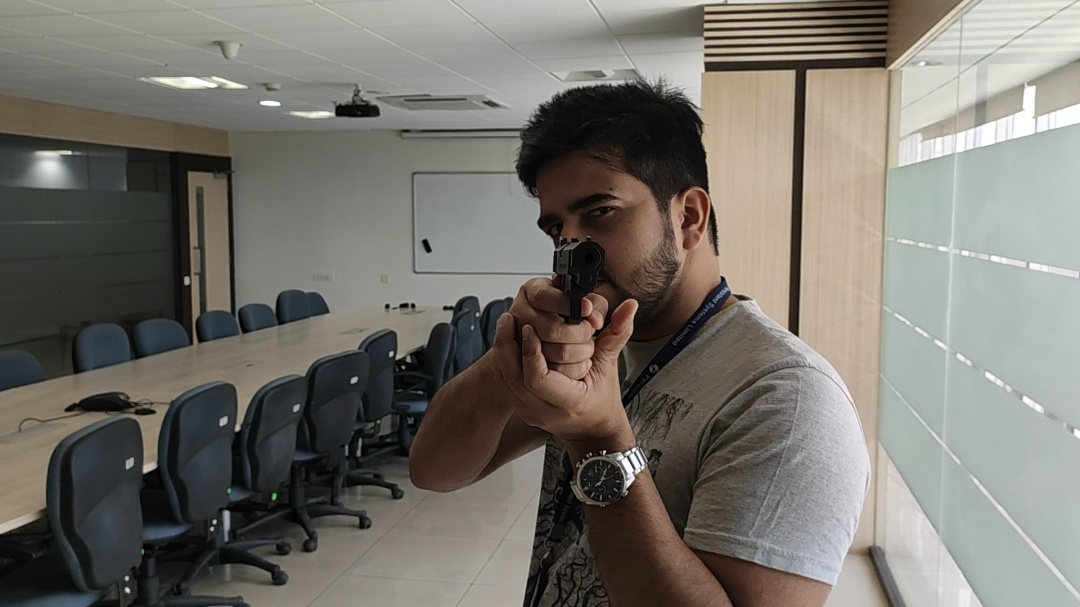gun: (399, 69, 856, 563)
